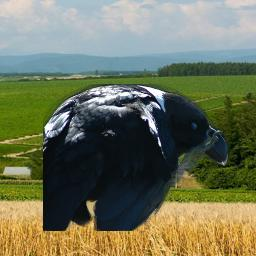Crow: (43, 84, 231, 231)
